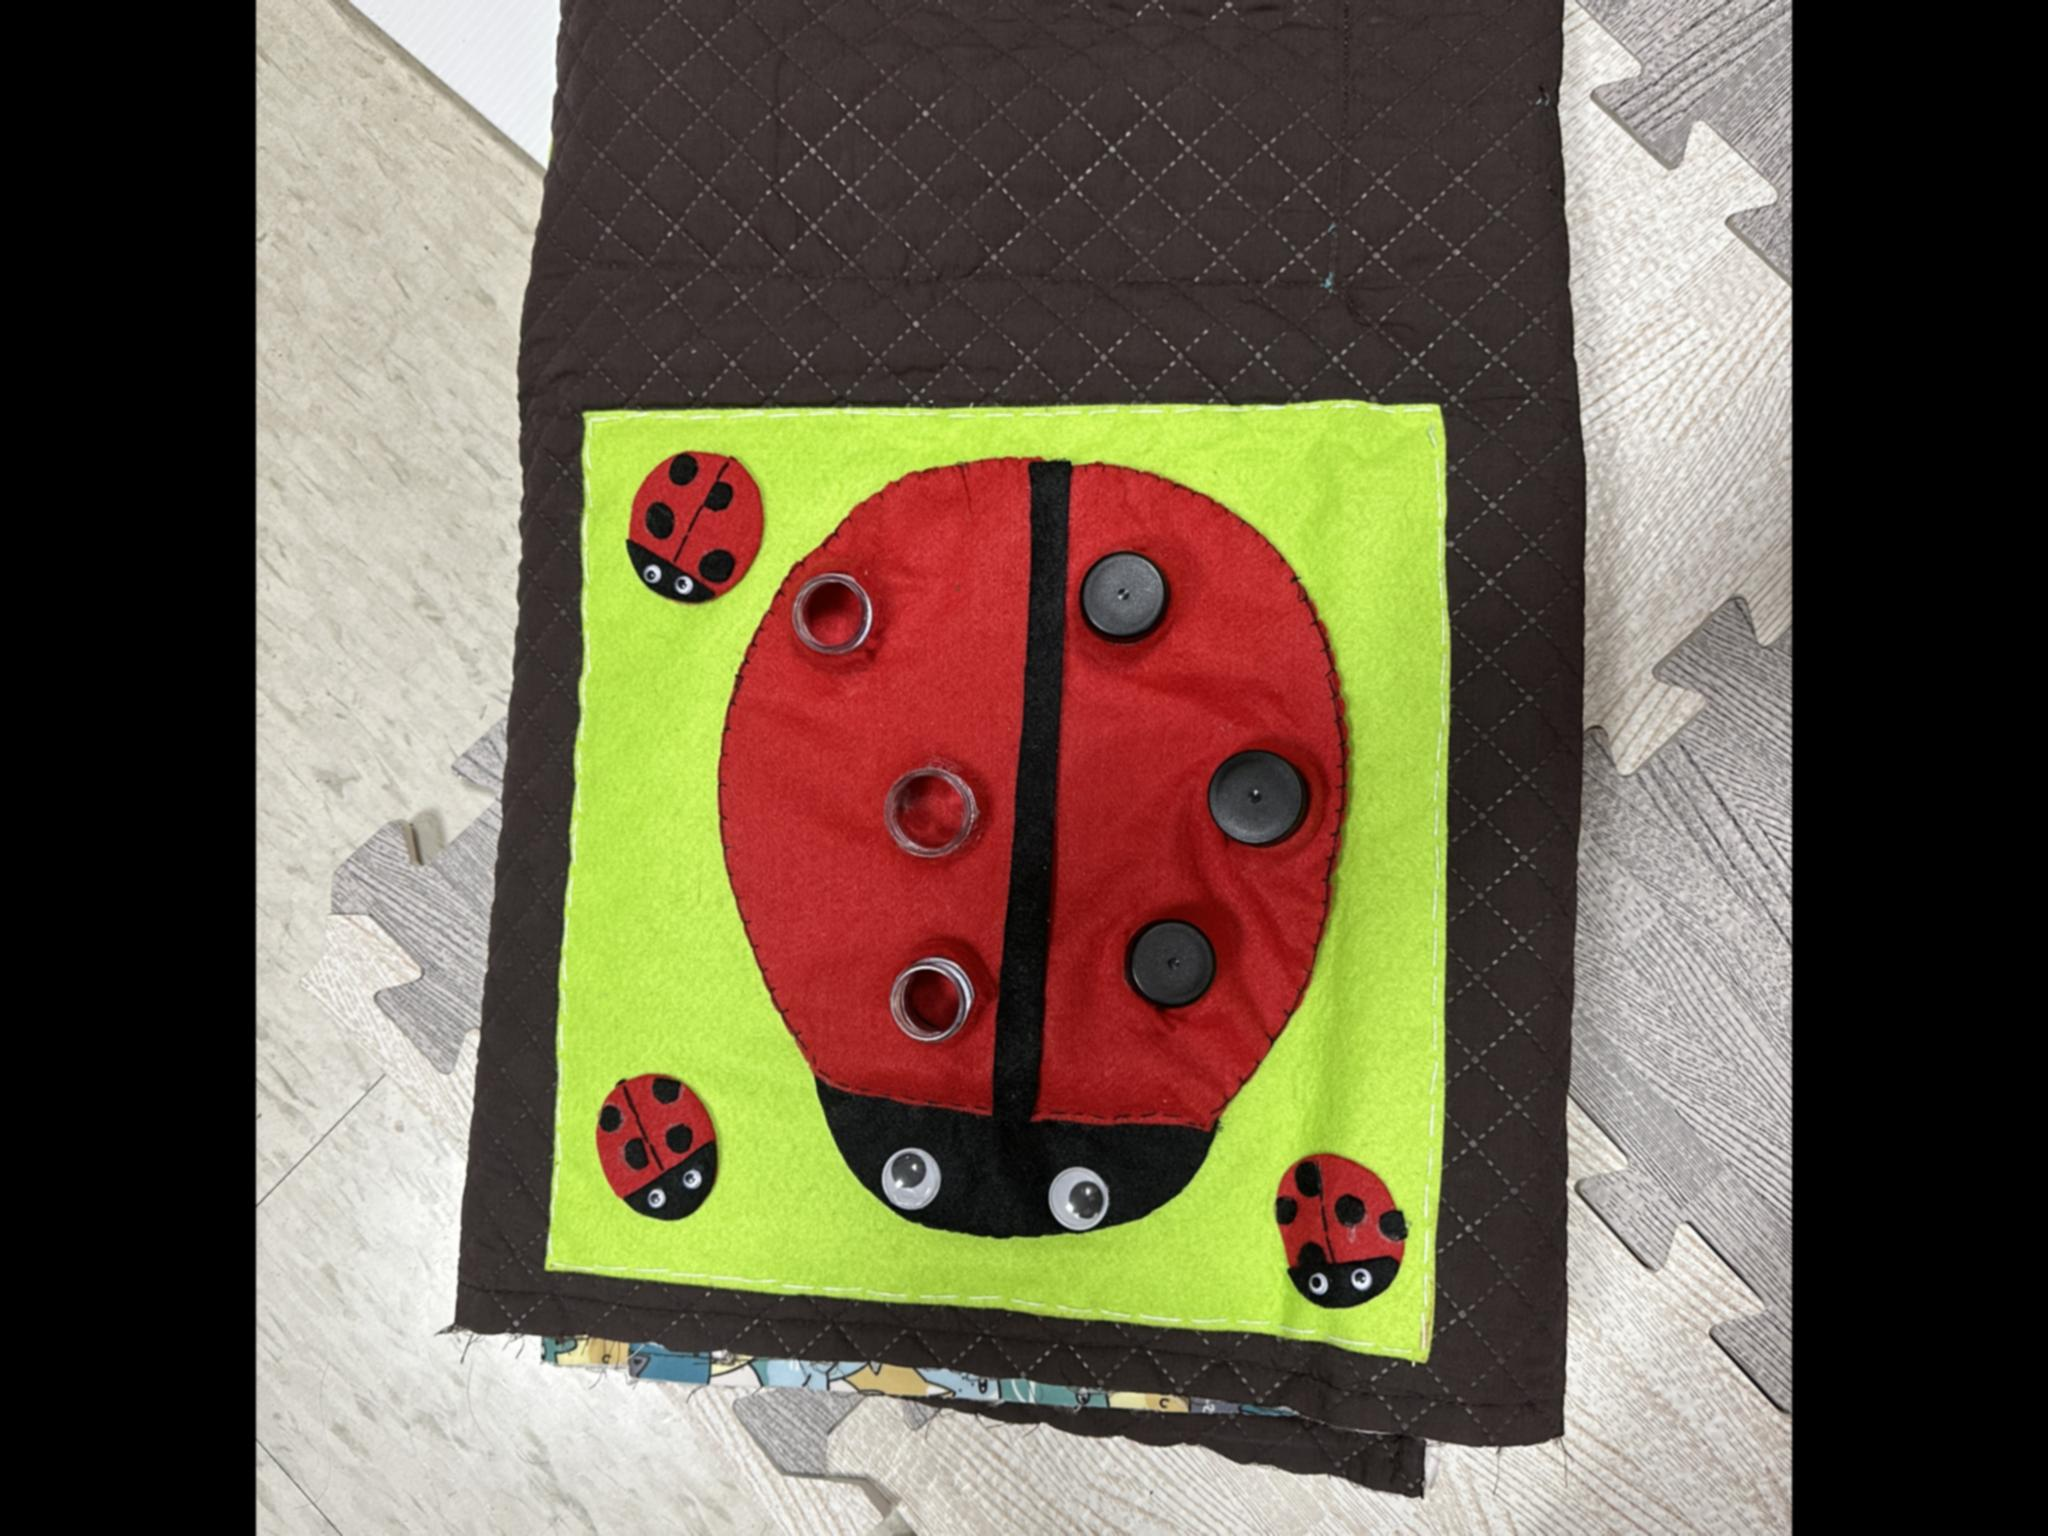cap_ok: (1184, 721, 1324, 871), (1108, 892, 1242, 1034), (1076, 523, 1184, 657)
